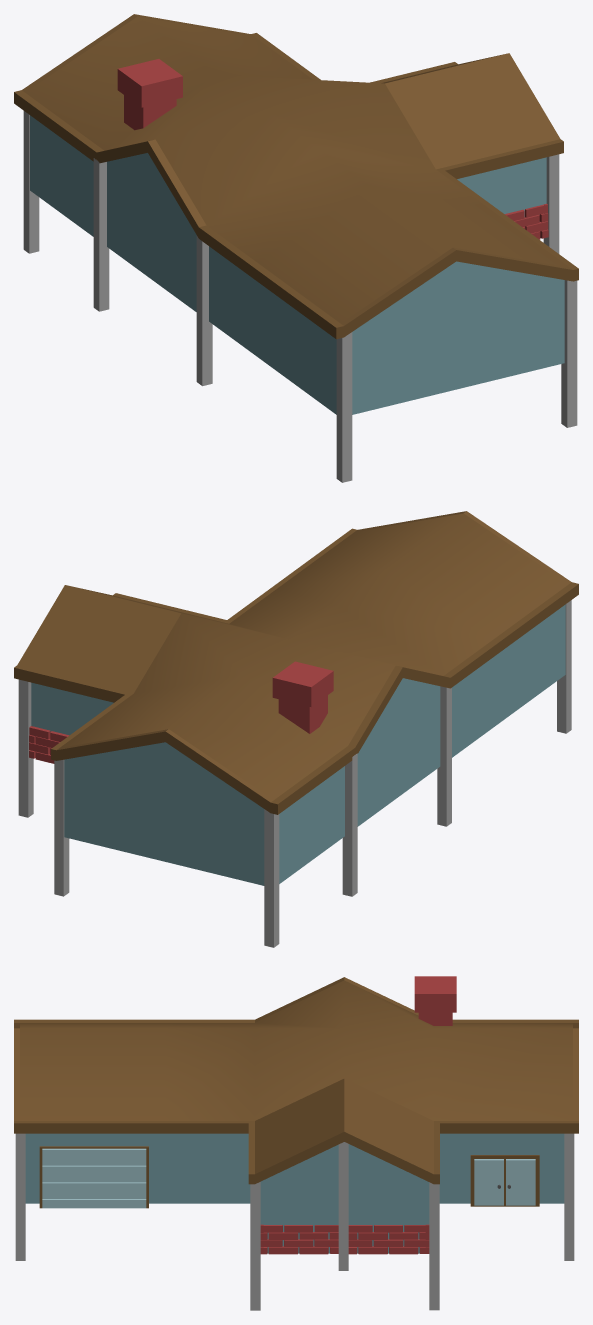
Rendered from house.fbx.
3 views of the same model, one above another, from view 1: azimuth 30°, elevation 25°; view 2: azimuth 150°, elevation 25°; view 3: azimuth 270°, elevation 25° (orthographic). The views are drawn at different scales.
Parts seen in each view (by area): view 1: pCube114; view 2: pCube114; view 3: pCube114.
Boxes of the visible parts, x1=… form: pCube114: x1=14, y1=14, x2=578, y2=482; pCube114: x1=14, y1=511, x2=578, y2=947; pCube114: x1=14, y1=976, x2=578, y2=1310.
Size of the model in its own units: 3.51 by 2.07 by 5.42.
